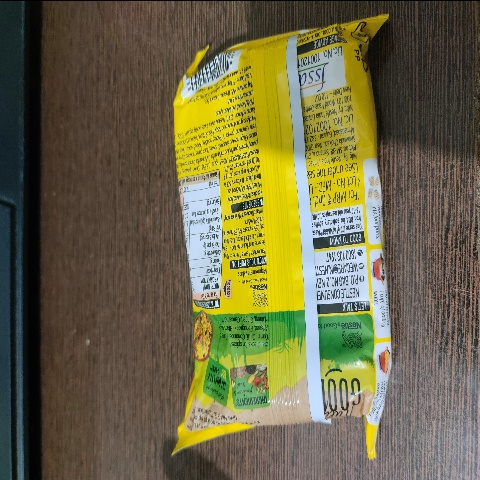maggi: (111, 33, 443, 462)
